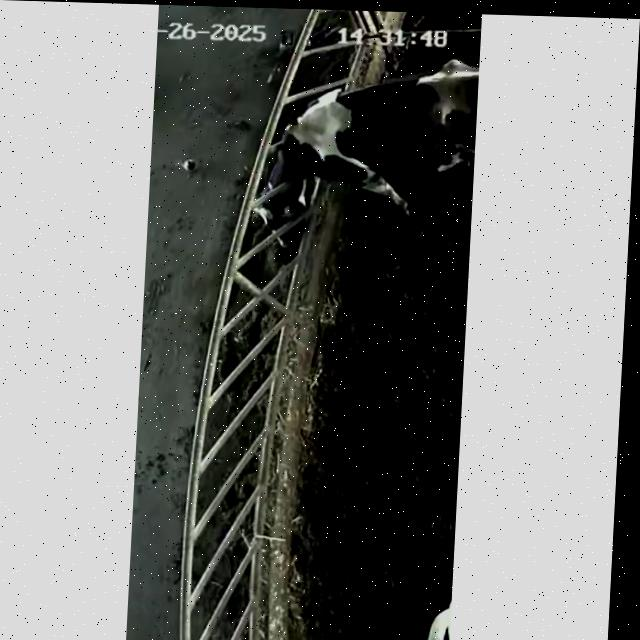eat: (210, 100, 384, 271)
